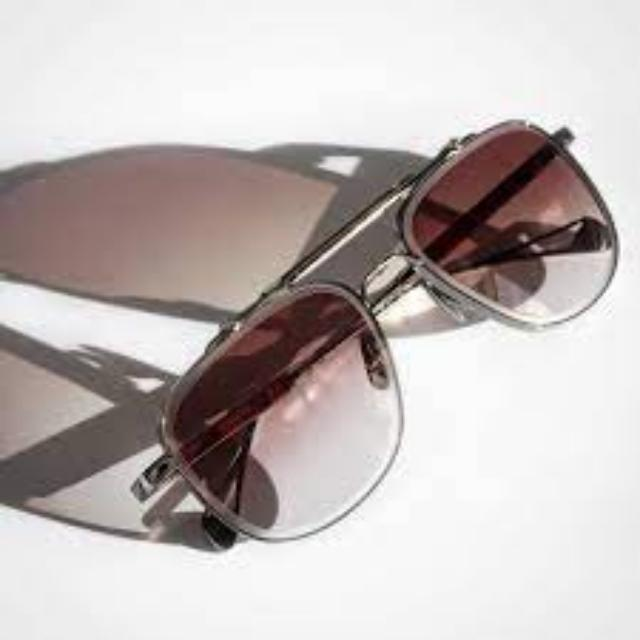sunglasses: (135, 118, 623, 552)
